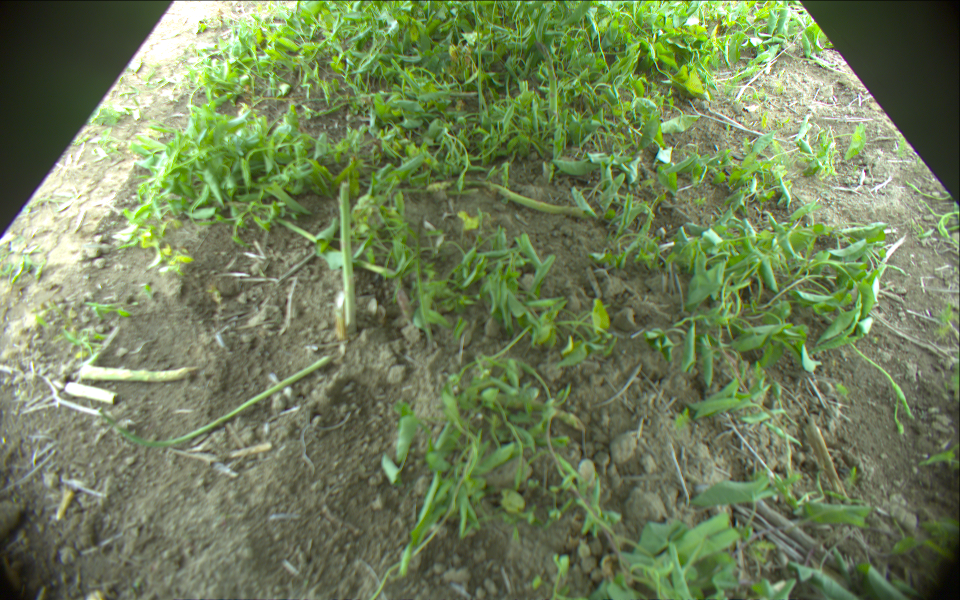aspa: (101, 355, 337, 448), (423, 180, 585, 216), (338, 179, 357, 339), (299, 91, 476, 105), (75, 363, 189, 383), (538, 40, 560, 126), (65, 382, 117, 405)
